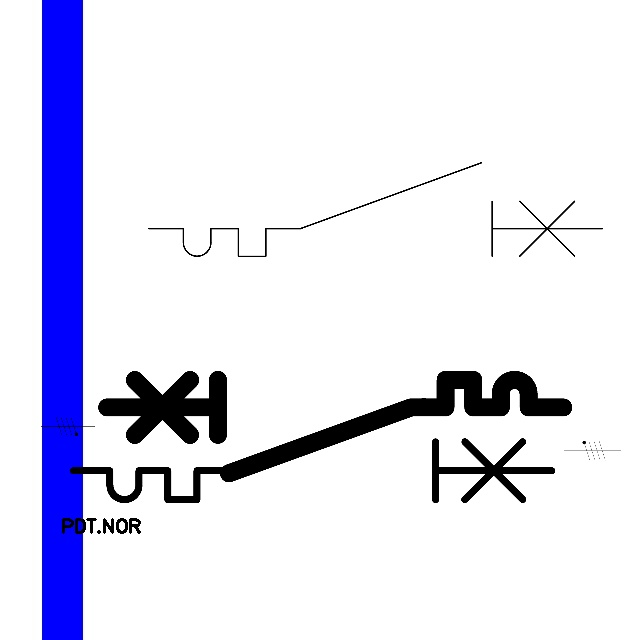interruptor_termomagnetico: (61, 389, 564, 512), (95, 368, 575, 485), (137, 151, 614, 268)
